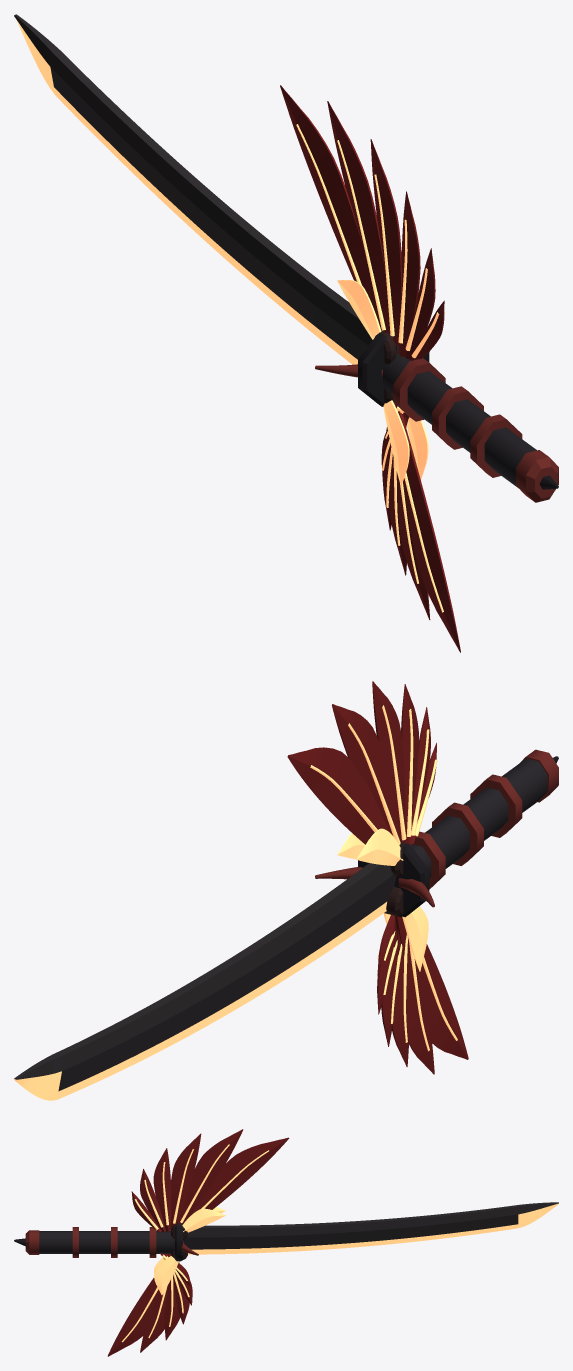
The model's file is w_katana@katana_infernal.glb.
The picture shows the model from 3 angles, top to bottom: view 1: azimuth 30°, elevation 25°; view 2: azimuth 150°, elevation 25°; view 3: azimuth 270°, elevation 25°; orthographic projection. The views are drawn at different scales.
Parts seen in each view (by area): view 1: kat_guard_wzN.002, kat_blade_wzB, kat_guard_wzN.003, kat_tsuka_wzA, kat_trims_wzN, kat_blade_wzN, kat_tsuka_wzN, kat_guard_wzN; view 2: kat_guard_wzN.002, kat_blade_wzB, kat_guard_wzN.003, kat_tsuka_wzA, kat_blade_wzN, kat_trims_wzN, kat_guard_wzN, kat_guard_wzN.001, kat_tsuka_wzN, kat_guard_wzN.004; view 3: kat_guard_wzN.002, kat_blade_wzB, kat_guard_wzN.003, kat_tsuka_wzA, kat_blade_wzN, kat_trims_wzN, kat_tsuka_wzN.
Part boxes in pixels (x1,y1,x2,y2): kat_guard_wzN.002: [280, 85, 460, 652]; kat_blade_wzB: [14, 14, 403, 359]; kat_guard_wzN.003: [296, 124, 444, 612]; kat_tsuka_wzA: [383, 356, 536, 488]; kat_trims_wzN: [393, 358, 522, 477]; kat_blade_wzN: [16, 19, 357, 364]; kat_tsuka_wzN: [516, 450, 558, 502]; kat_guard_wzN: [358, 333, 429, 406]; kat_guard_wzN.002: [287, 681, 468, 1074]; kat_blade_wzB: [14, 863, 396, 1091]; kat_guard_wzN.003: [310, 705, 457, 1051]; kat_tsuka_wzA: [411, 758, 547, 878]; kat_blade_wzN: [14, 902, 386, 1100]; kat_trims_wzN: [412, 774, 522, 889]; kat_guard_wzN: [358, 842, 429, 917]; kat_guard_wzN.001: [315, 867, 434, 907]; kat_tsuka_wzN: [520, 749, 558, 802]; kat_guard_wzN.004: [384, 842, 406, 917]; kat_guard_wzN.002: [107, 1129, 289, 1356]; kat_blade_wzB: [170, 1202, 558, 1249]; kat_guard_wzN.003: [122, 1144, 268, 1342]; kat_tsuka_wzA: [39, 1231, 174, 1253]; kat_blade_wzN: [188, 1203, 558, 1254]; kat_trims_wzN: [72, 1227, 156, 1257]; kat_tsuka_wzN: [25, 1230, 39, 1254].
Bounding box in the file's own units: 0.1261 × 0.4556 × 0.9877.
